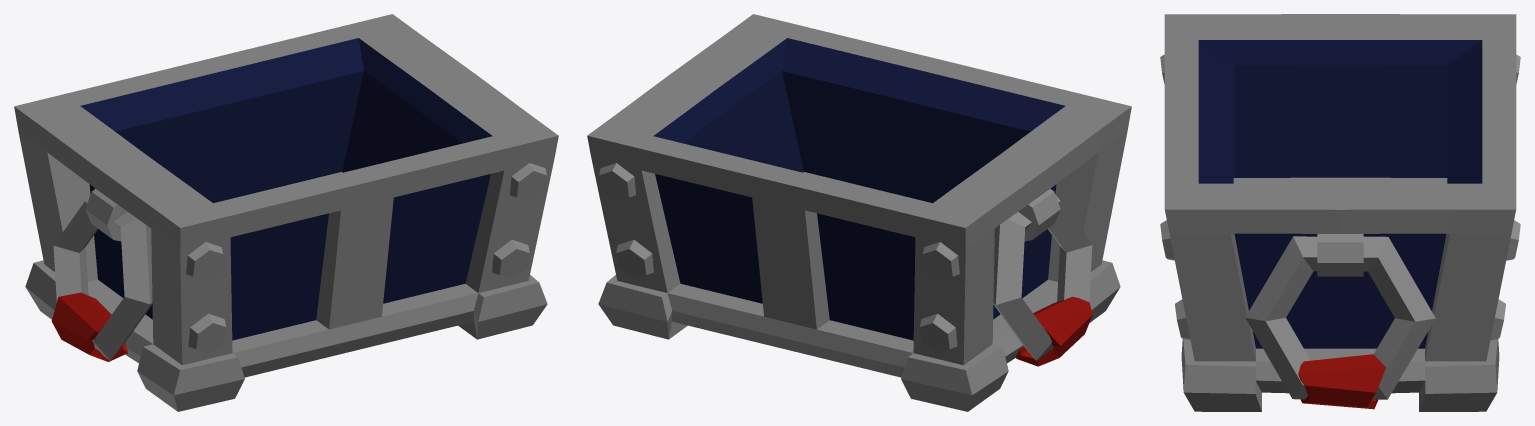
File: chest_silver_bottom.obj
The picture shows the model from 3 angles, left to right: view 1: azimuth 30°, elevation 25°; view 2: azimuth 150°, elevation 25°; view 3: azimuth 270°, elevation 25°; orthographic projection. The views are drawn at different scales.
Visible parts, largest first — view 1: chest_silver_bottom_Cube.046_silverMetal, chest_silver_bottom_Cube.046_lightBlue, chest_silver_bottom_Cube.046_clothRed; view 2: chest_silver_bottom_Cube.046_silverMetal, chest_silver_bottom_Cube.046_lightBlue, chest_silver_bottom_Cube.046_clothRed; view 3: chest_silver_bottom_Cube.046_silverMetal, chest_silver_bottom_Cube.046_lightBlue, chest_silver_bottom_Cube.046_clothRed.
Part boxes in pixels (x1,y1,x2,y2): chest_silver_bottom_Cube.046_silverMetal: [14, 14, 558, 411]; chest_silver_bottom_Cube.046_lightBlue: [80, 38, 492, 340]; chest_silver_bottom_Cube.046_clothRed: [51, 292, 127, 361]; chest_silver_bottom_Cube.046_silverMetal: [587, 14, 1131, 411]; chest_silver_bottom_Cube.046_lightBlue: [653, 38, 1065, 340]; chest_silver_bottom_Cube.046_clothRed: [1016, 296, 1092, 366]; chest_silver_bottom_Cube.046_silverMetal: [1160, 14, 1520, 411]; chest_silver_bottom_Cube.046_lightBlue: [1198, 40, 1482, 348]; chest_silver_bottom_Cube.046_clothRed: [1298, 354, 1386, 409].
Bounding box in the file's own units: 1.15 × 0.4966 × 0.7786.
